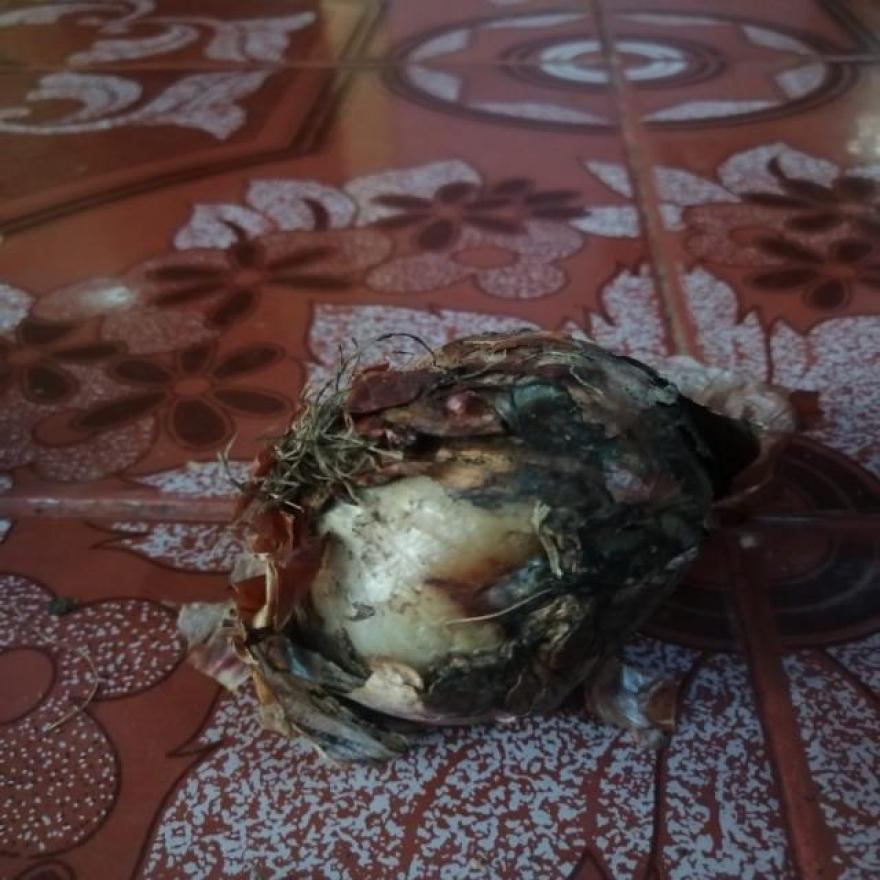Rotten: (440, 400, 608, 626)
